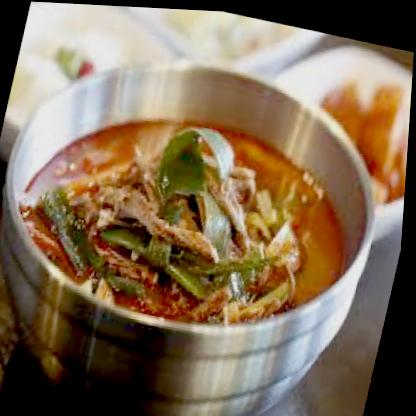radish Kimchi: (305, 52, 413, 185)
spicy yuke jang: (5, 78, 378, 357)
